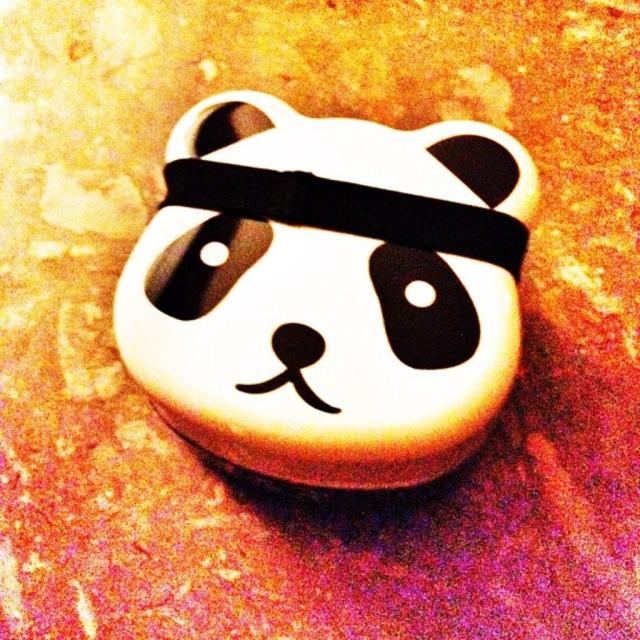Bear: (108, 90, 546, 491)
